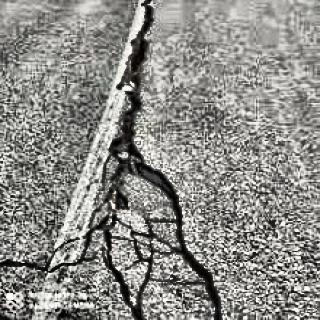alligator-crack: (64, 176, 211, 320)
crack: (111, 1, 155, 182), (0, 252, 102, 276)
